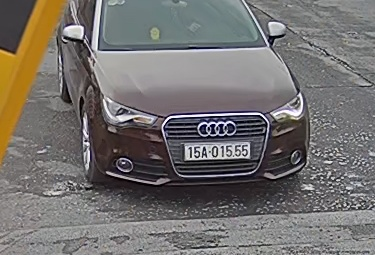vehicle plate: (182, 139, 252, 160)
